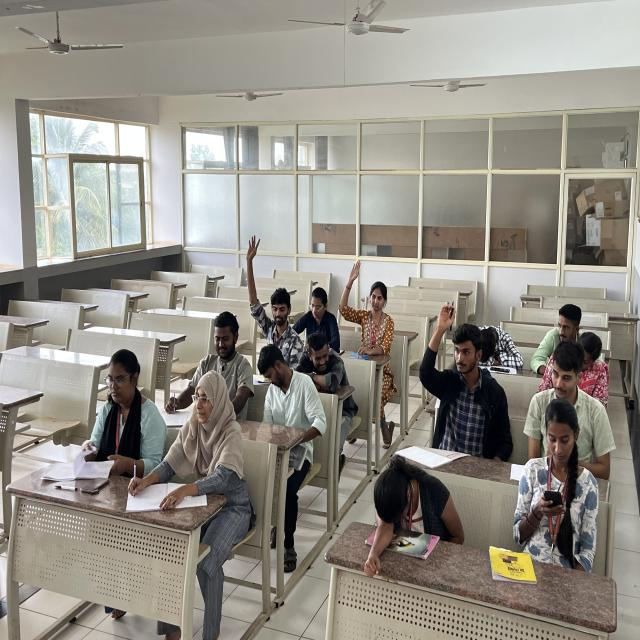Hand Rising: (420, 302, 508, 458), (240, 232, 302, 353), (337, 258, 395, 369)
Reading: (70, 348, 168, 468)
Sleeping: (363, 454, 468, 567), (478, 318, 529, 376)
Using Phone: (512, 395, 605, 572)
Writing: (125, 368, 246, 524), (164, 309, 254, 422)
